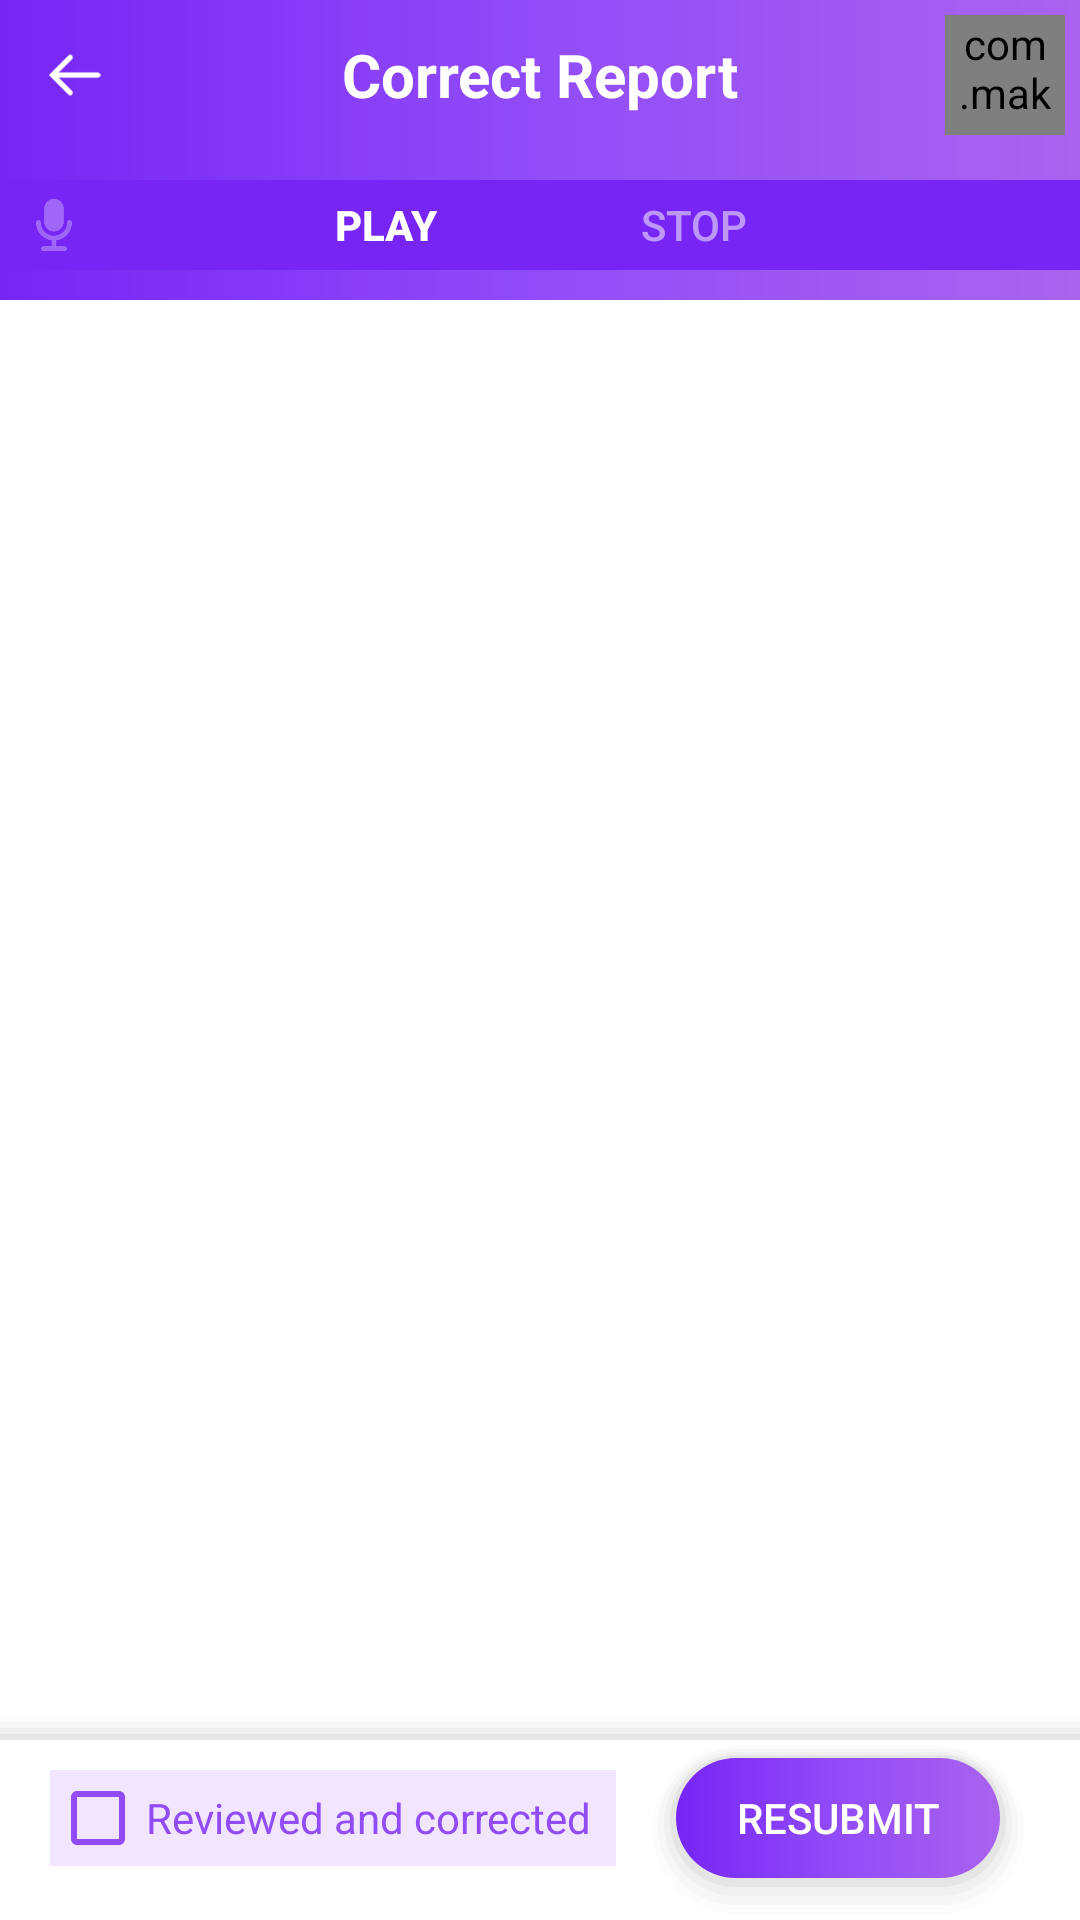

Point at icon controls on the screen. Image size 1080 x 1920, points as point (x, y).
audio: point (54, 225)
leftarrow: point (75, 75)
